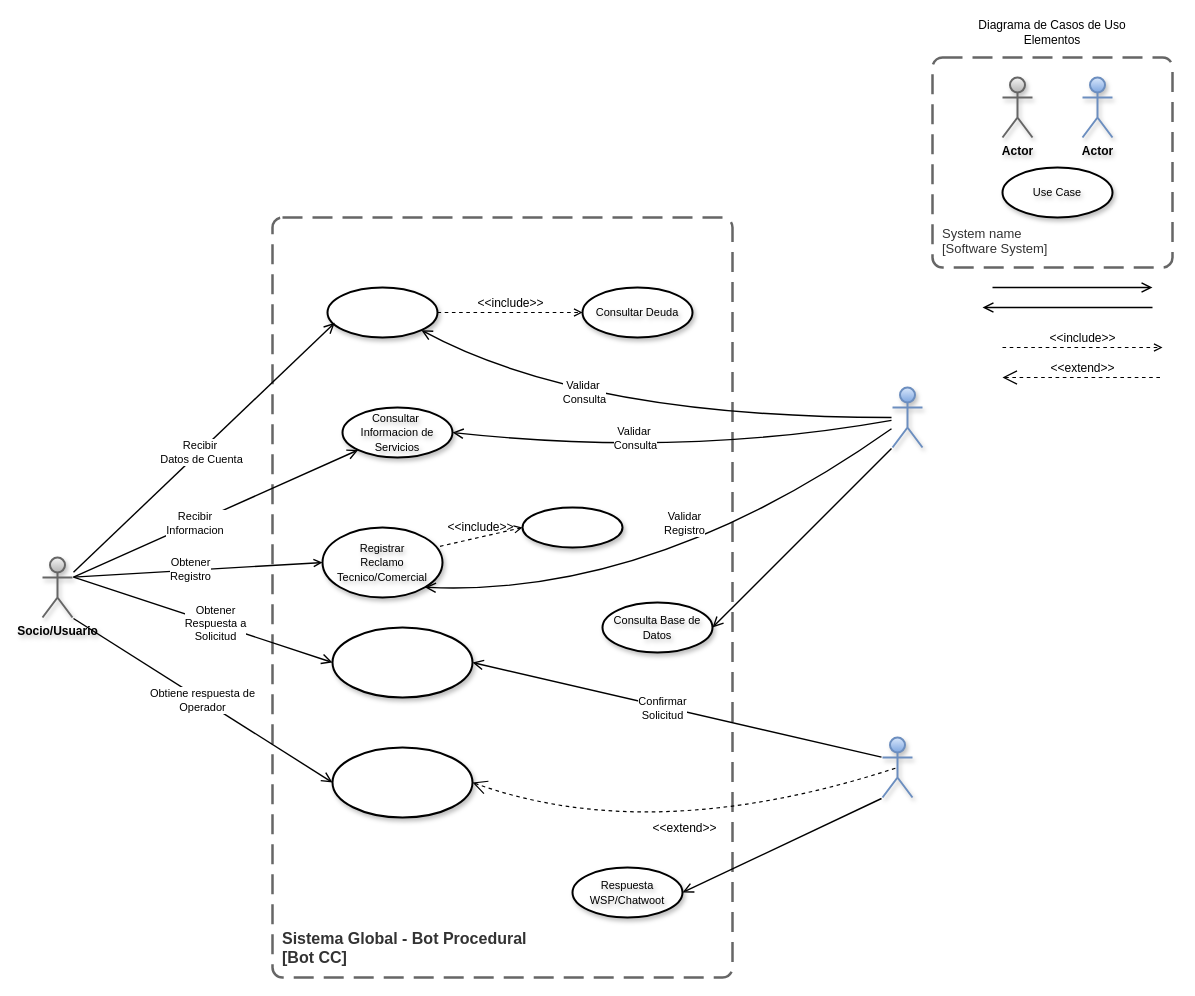
The diagram is 1195 pixels wide and 996 high, and some of its shapes have lost their labels. The centre of each missing label's shape, as x and y in pixels:
"ChatWoot Operador" belongs at point 898,768.
"Consultar estado de cuenta" belongs at point 383,313.
"Estado de Reclamo" belongs at point 573,528.
"MySQL BDD" belongs at point 908,418.
"Solicitar Excepcion/Compromiso de Pago" belongs at point 403,663.
"Solicitar Transferencia a Operador" belongs at point 403,783.
